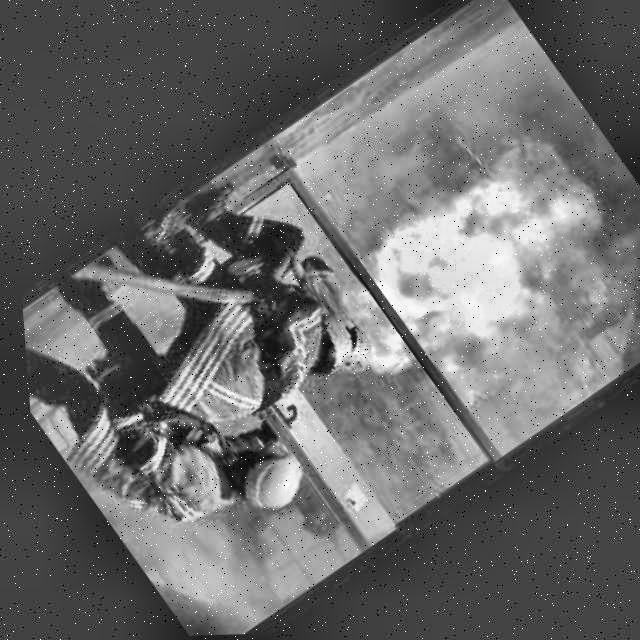Fire: (285, 116, 640, 488)
